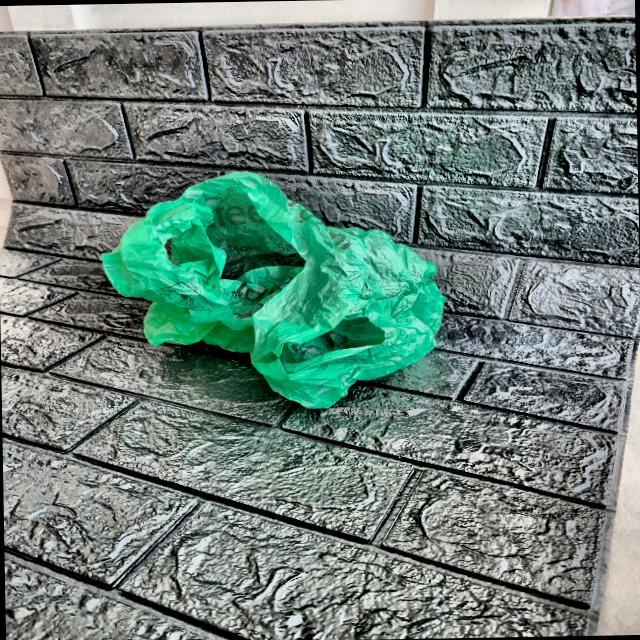plastic bag: (93, 156, 461, 424)
